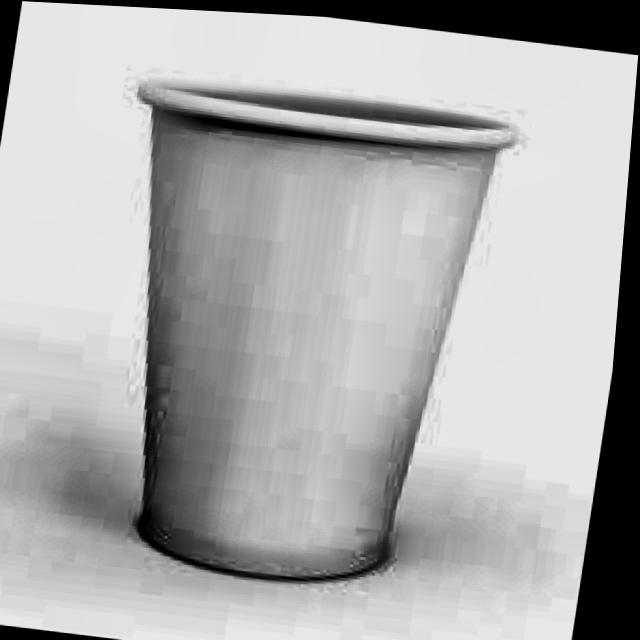Cup: (63, 41, 530, 596)
